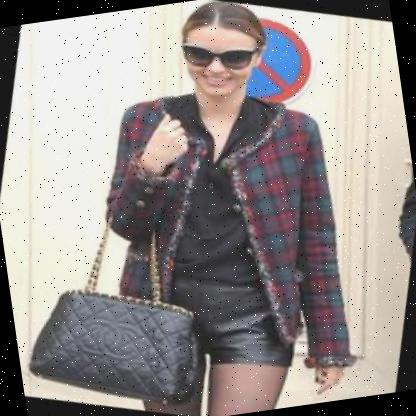bag: (0, 147, 211, 416)
person: (73, 0, 365, 416)
